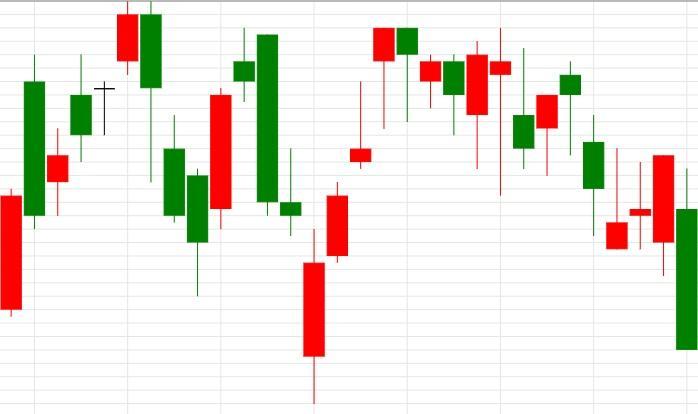bearish_engulfing_fall: (0, 0, 163, 316)
hanging_man_fall: (302, 28, 419, 404)
inverse_hammer_rise: (559, 60, 629, 251)
three_white_soldiers_rise: (256, 35, 373, 404)
